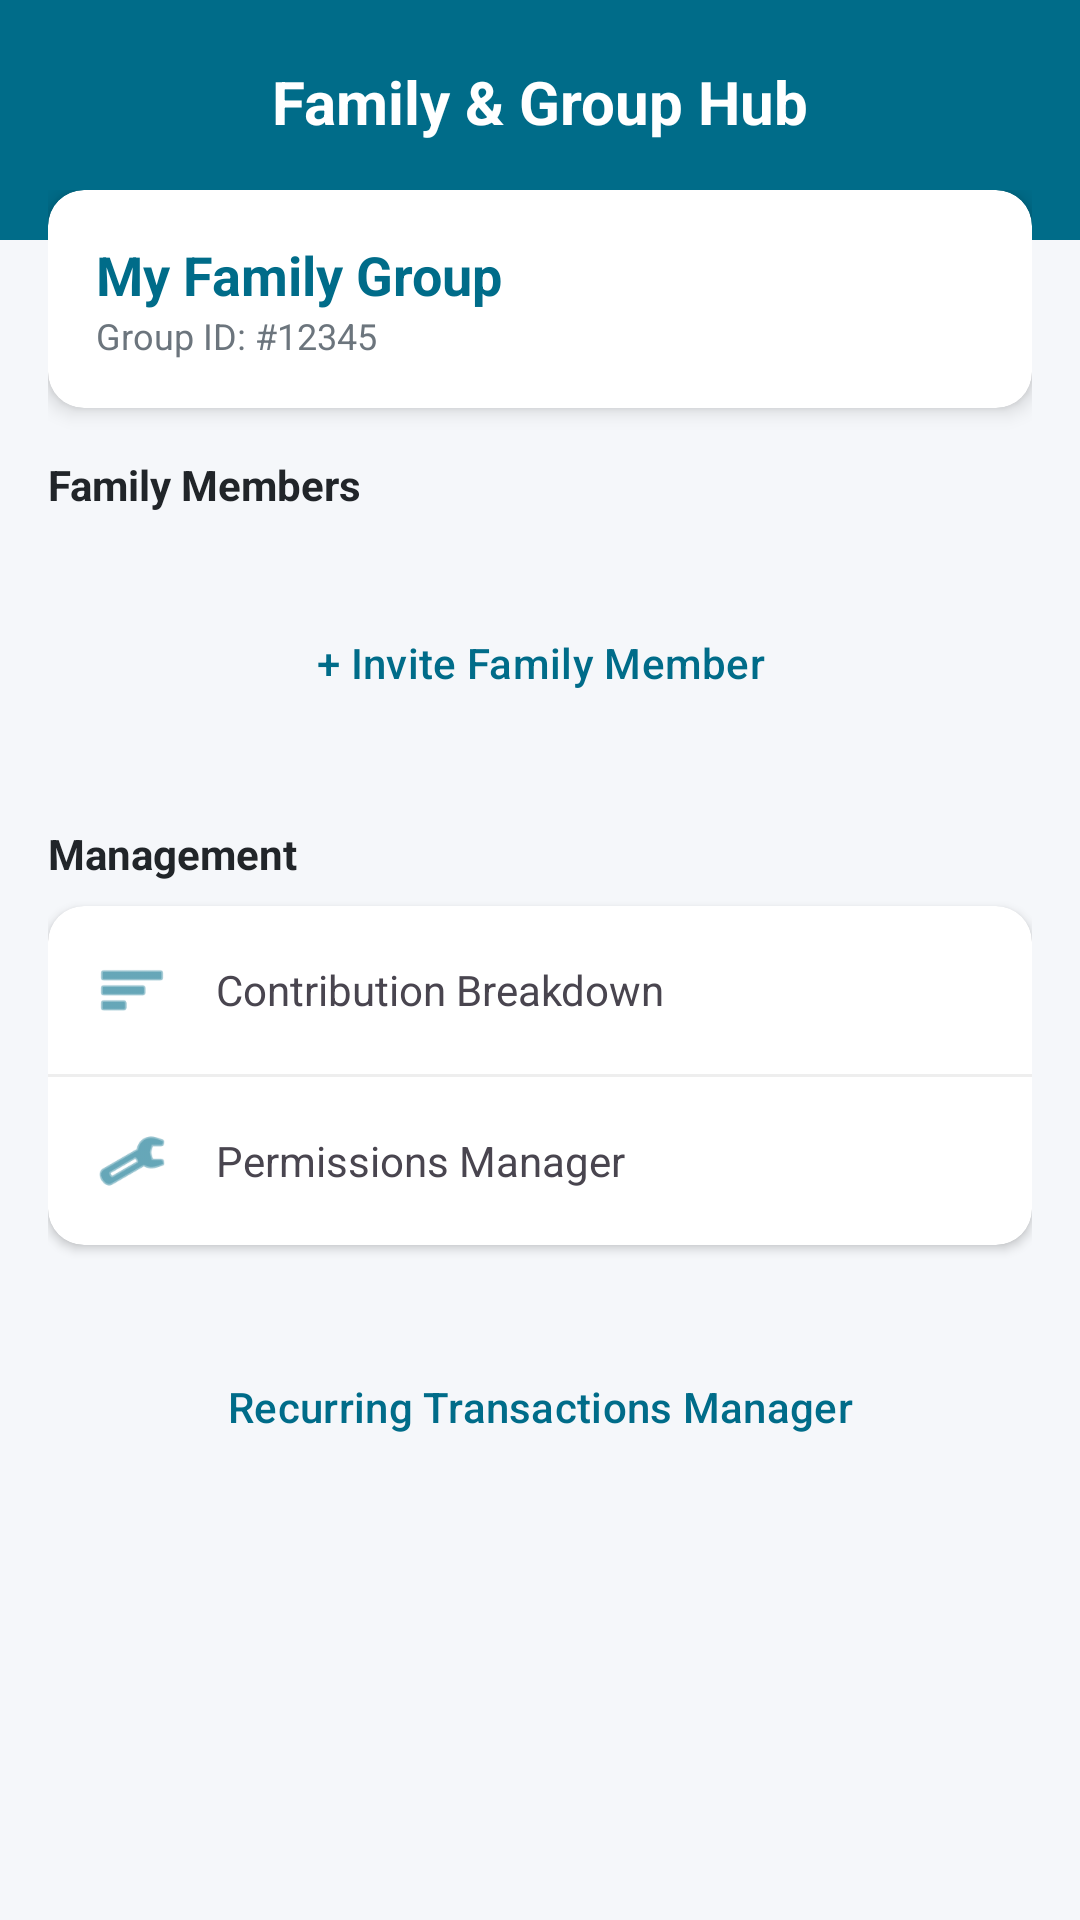

Locate icon controls on the screen. Image size 1080w x 1920h, boxes as (x1, y1, x2, y2).
sort by size: (101, 970, 163, 1011)
